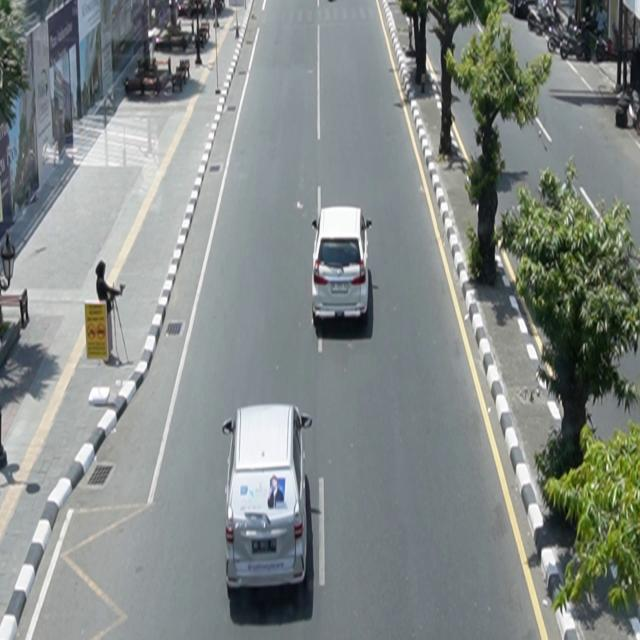car: (223, 404, 313, 595), (312, 206, 373, 327)
